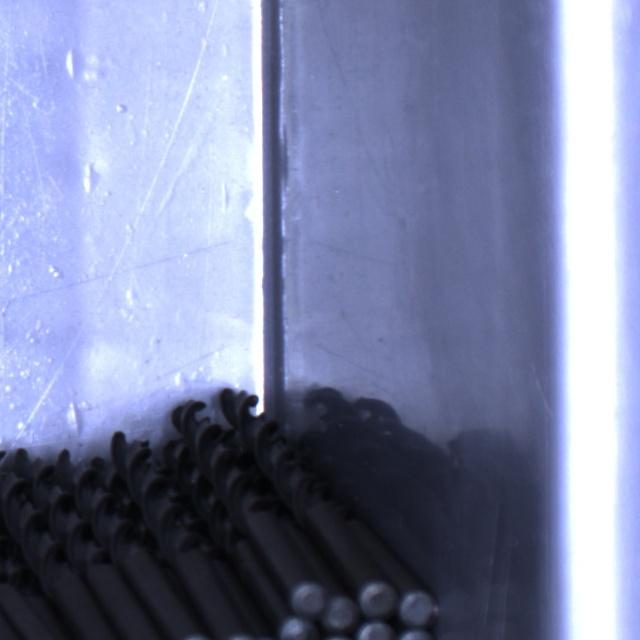tool: (359, 580, 398, 618), (400, 587, 438, 624), (292, 580, 327, 616), (324, 596, 358, 631), (276, 615, 316, 640), (356, 621, 394, 640), (396, 628, 436, 640)
